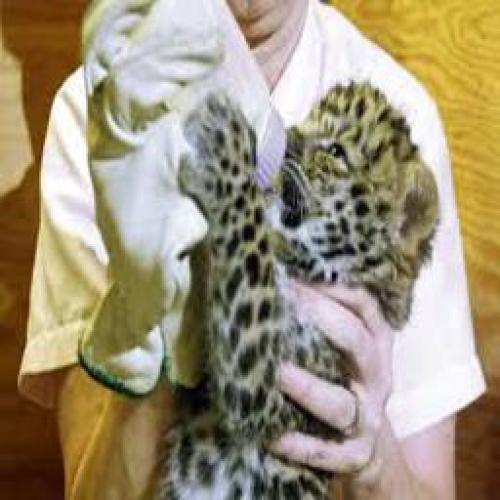amur_leopard-endangered: (179, 75, 442, 500)
